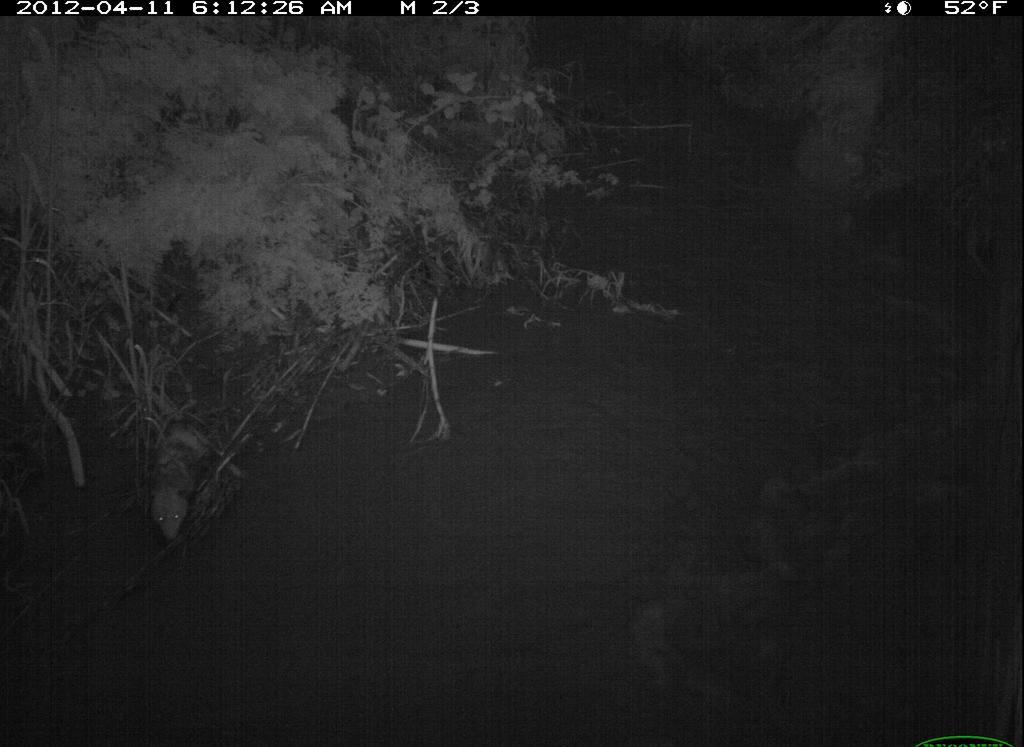opossum: (136, 399, 231, 543)
